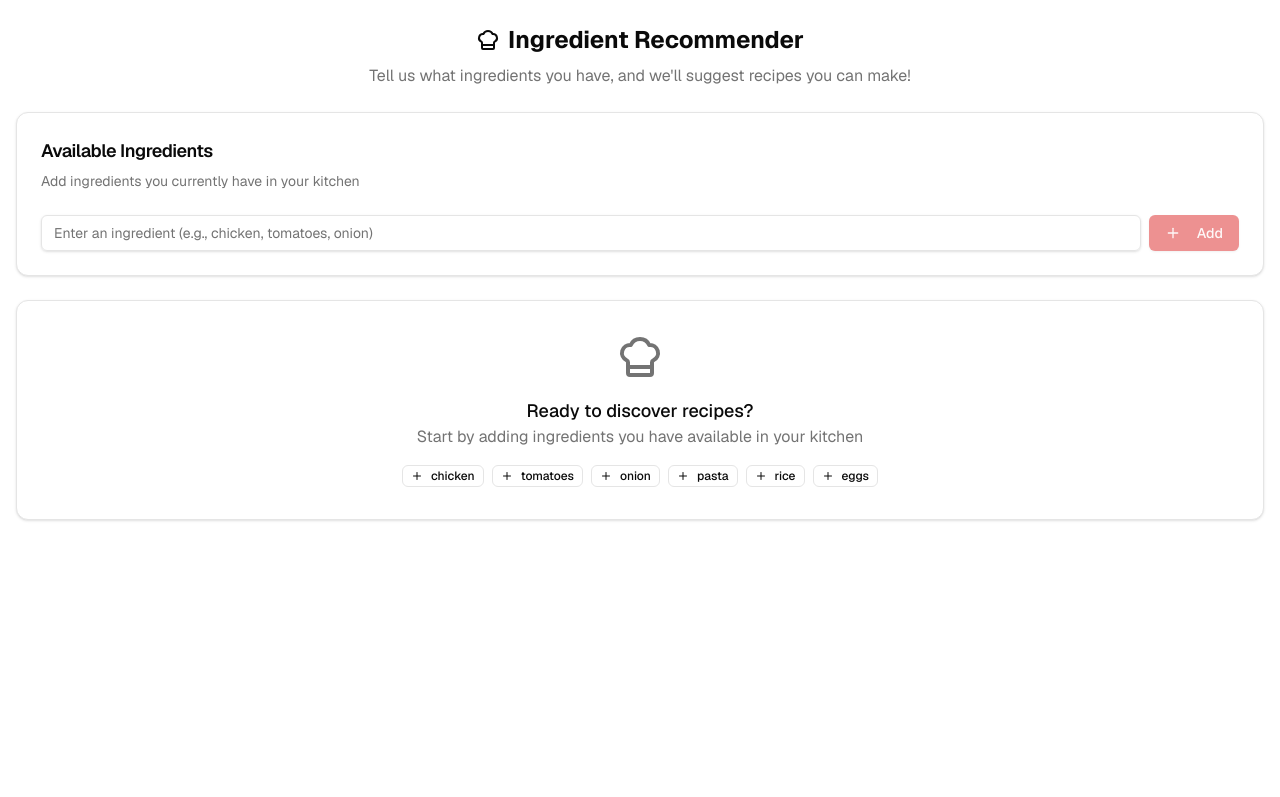
IngredientRecommender › Recipe Recommendations Display › should display recipe recommendations
Type "tomato" into the field with placeholder "Enter an ingredient (e.g., chicken, tomatoes, onion)" at (591, 233), box [41,215,1141,251]
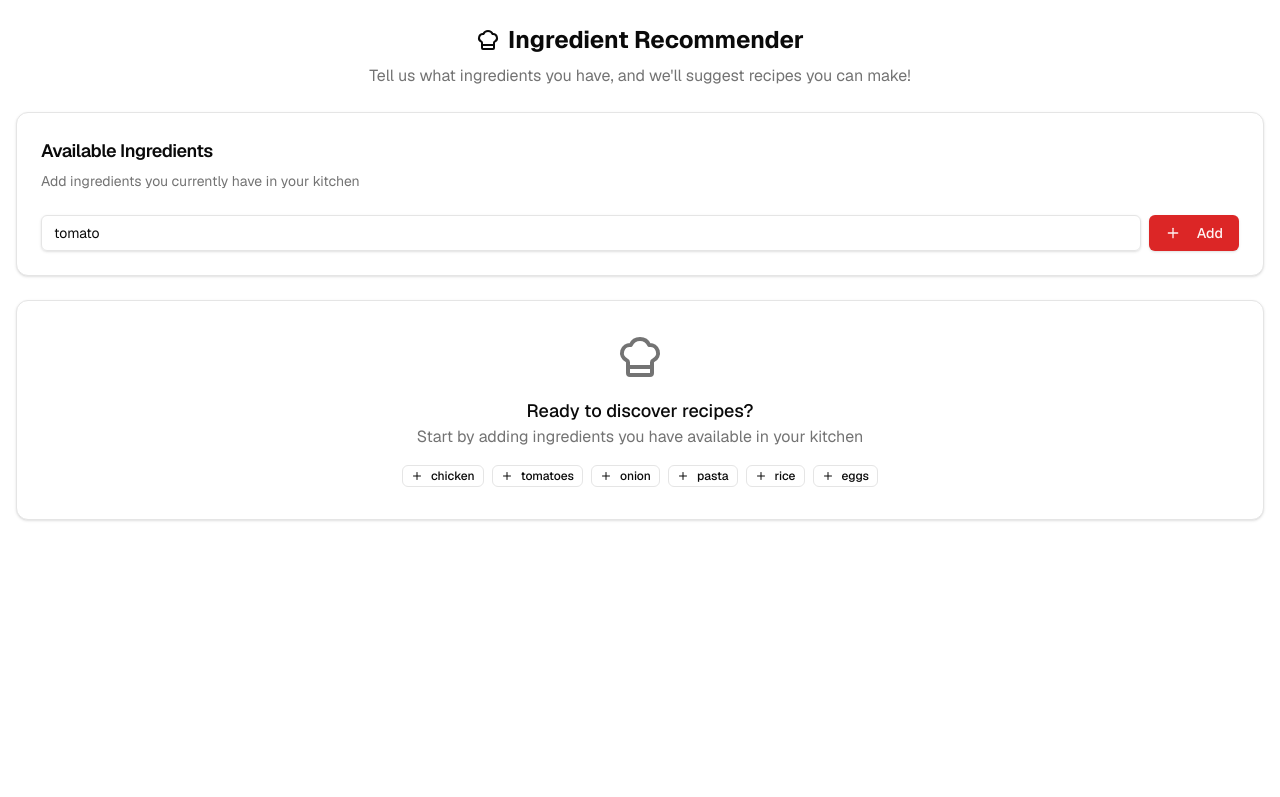
Click the button at (1194, 233), box [1149,215,1239,251]
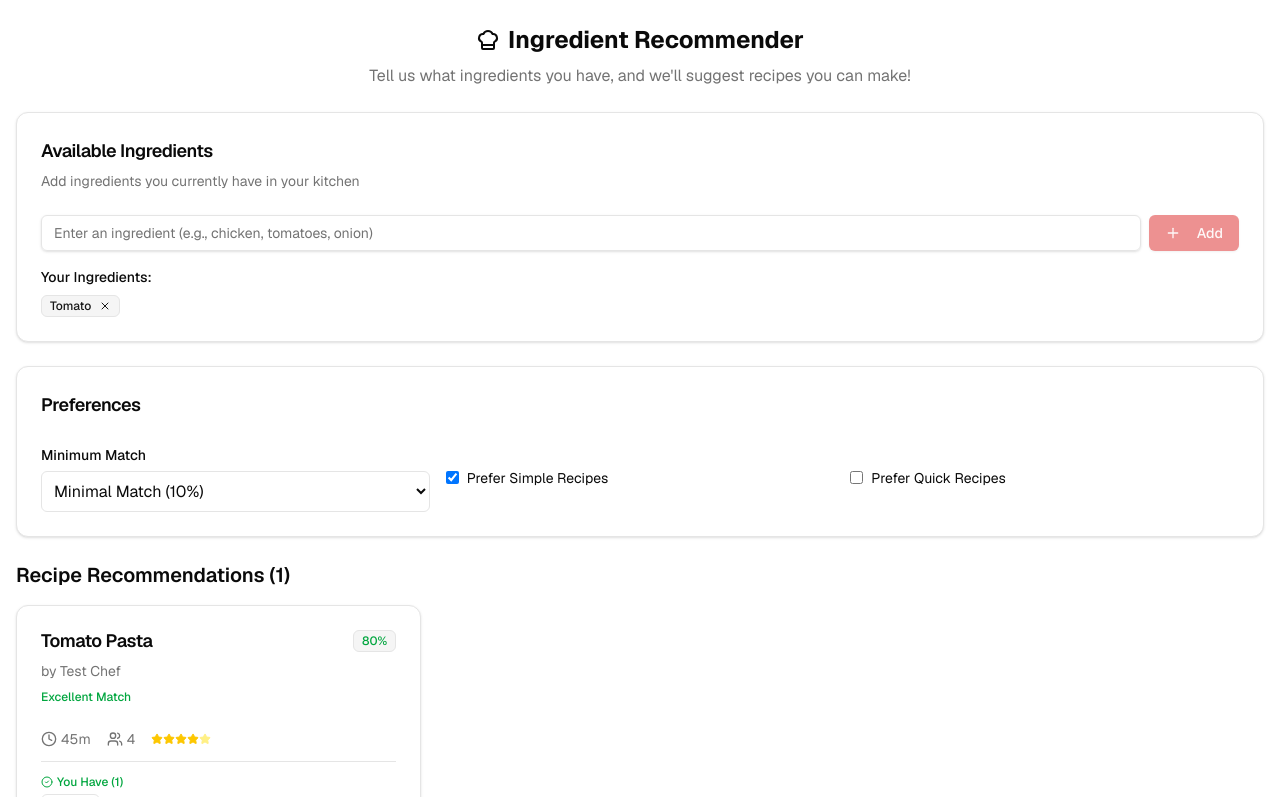
Result: the heading "Recipe Recommendations (1)" is shown at [16,561,290,589]
Result: the text "Tomato Pasta" is shown at [41,630,153,652]
